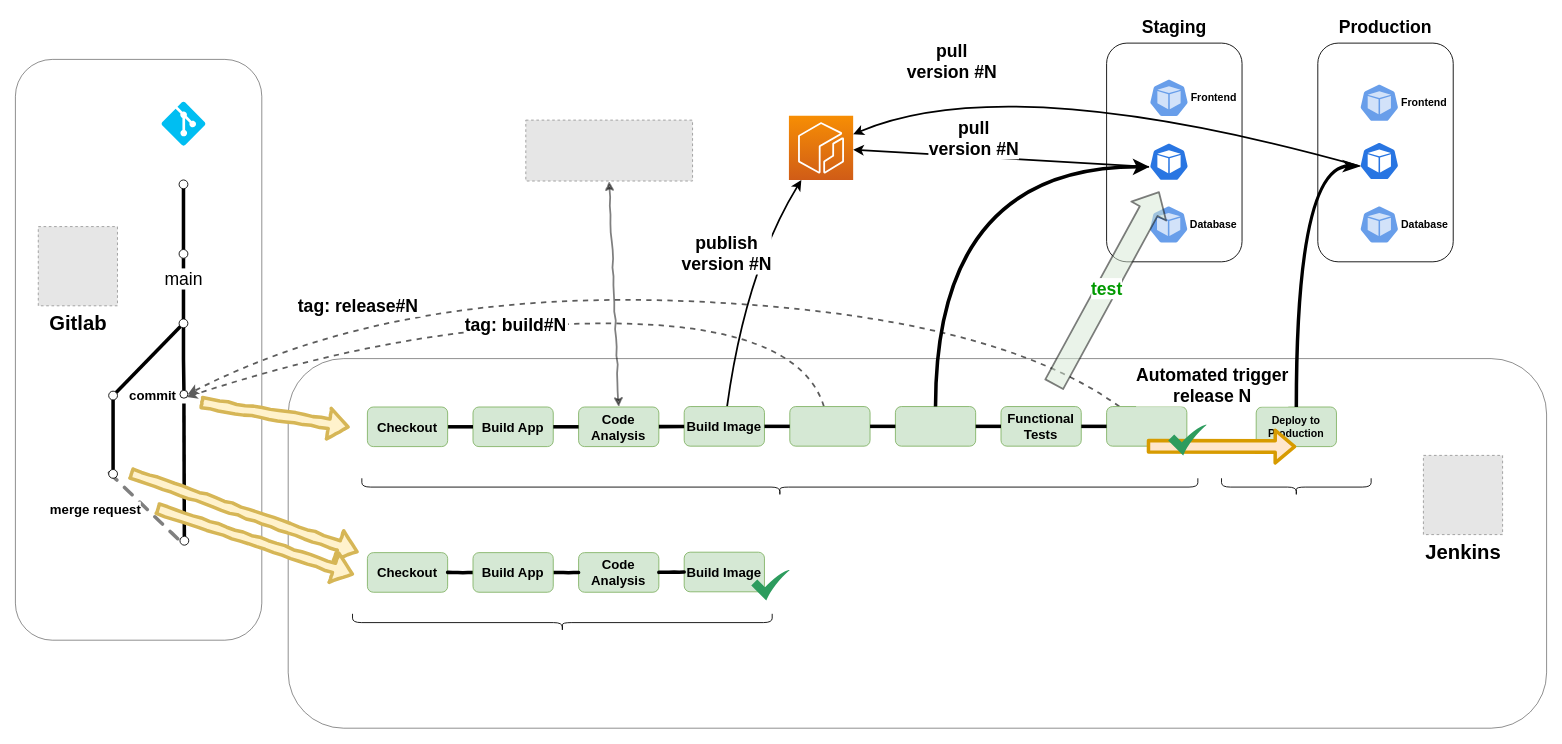
Image size: 1562x744. Some labels were removed from this diagram. Grey dashed boxes stand in for pictures. Here are the shapes that lost their labels. From the top down, the centre of each, then its label:
(x=183, y=123): account-service
(x=820, y=147): Docker Repository
(x=829, y=426): Tag Build
(x=935, y=426): Deploy to Staging
(x=1146, y=426): Tag Release
(x=779, y=486): Release pipeline
(x=1296, y=486): Deployment pipeline
(x=562, y=622): features pipeline
